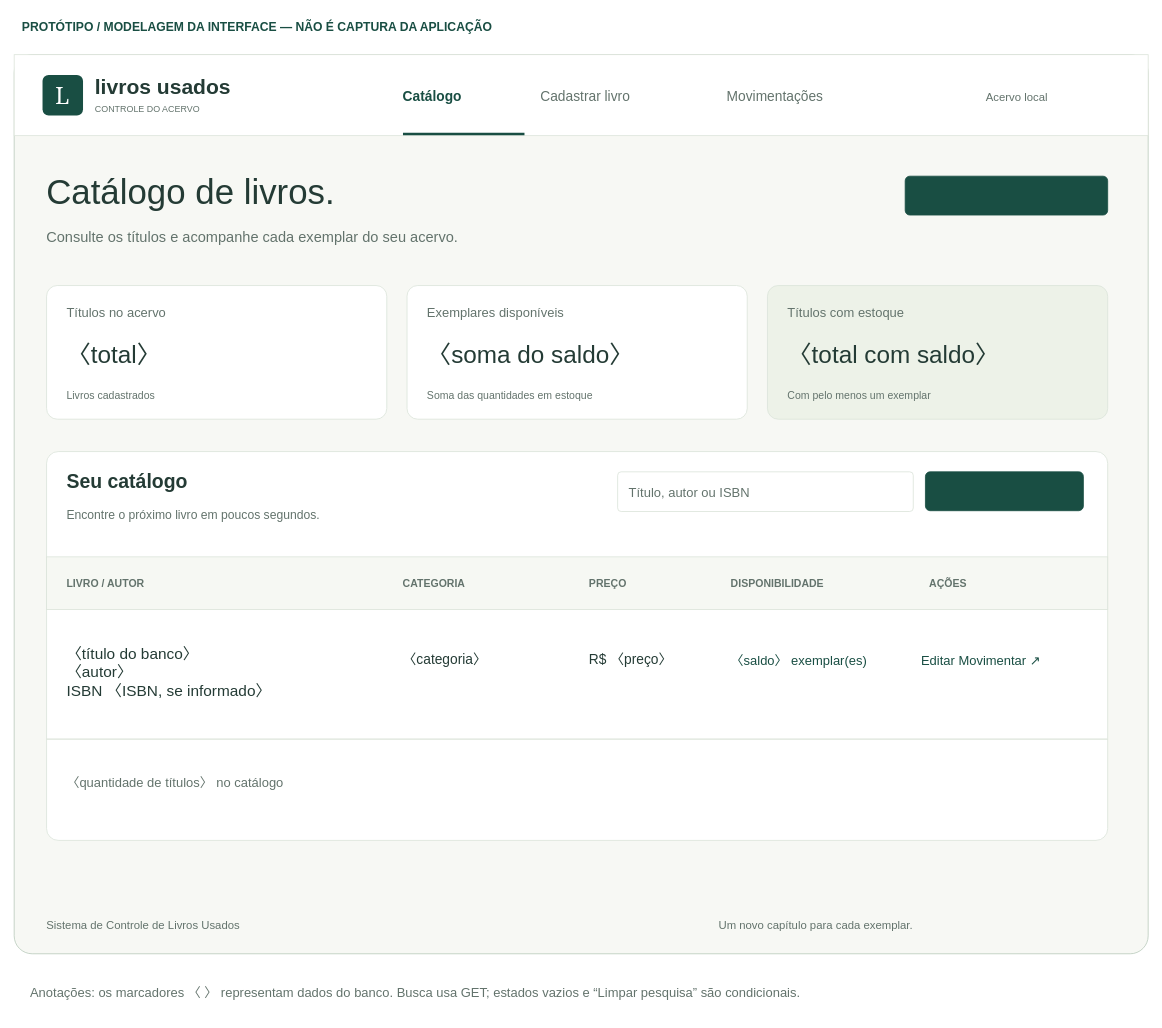
Image size: 1162x1028. Some labels were removed from this diagram. The shapes that lost their labels are listed below. From the top down, each one's centre as x and y in pixels, then its label:
At (1006,195): "＋ Cadastrar livro".
At (1004,491): "Pesquisar".
